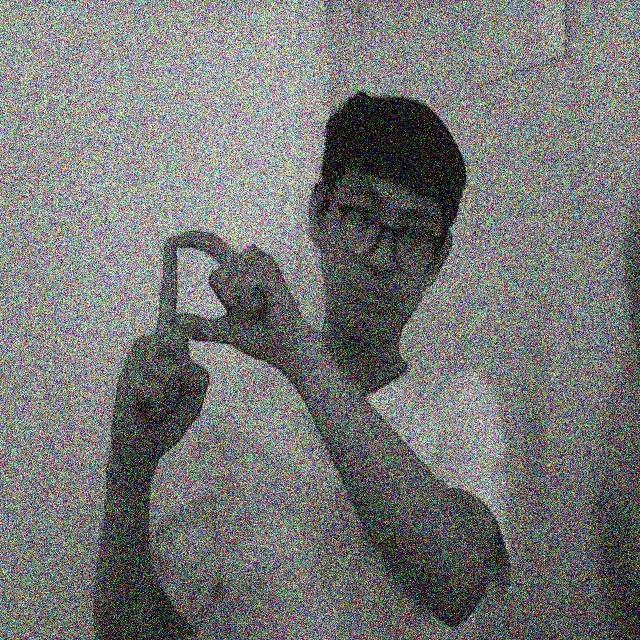D: (133, 214, 280, 394)
